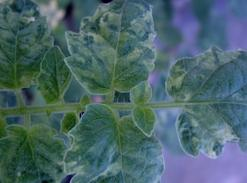Tomato leaf mosaic virus: (63, 0, 160, 96), (167, 44, 247, 160), (58, 104, 163, 183), (0, 0, 55, 101), (0, 118, 71, 183)
